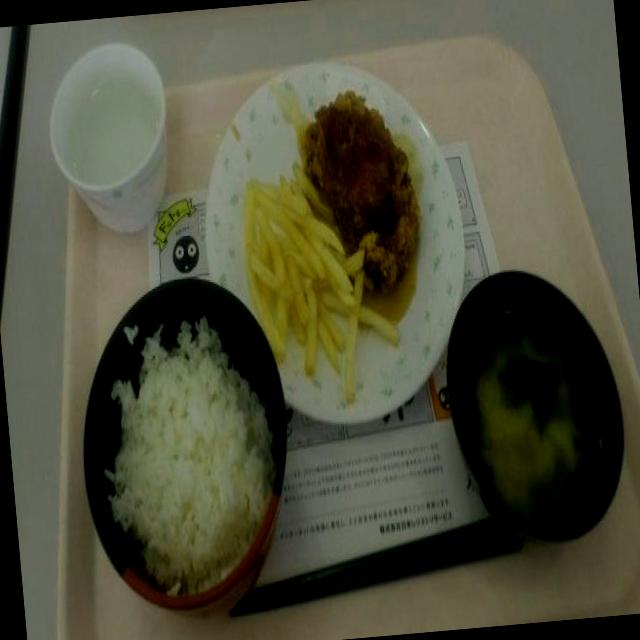Rice: (100, 306, 278, 587)
